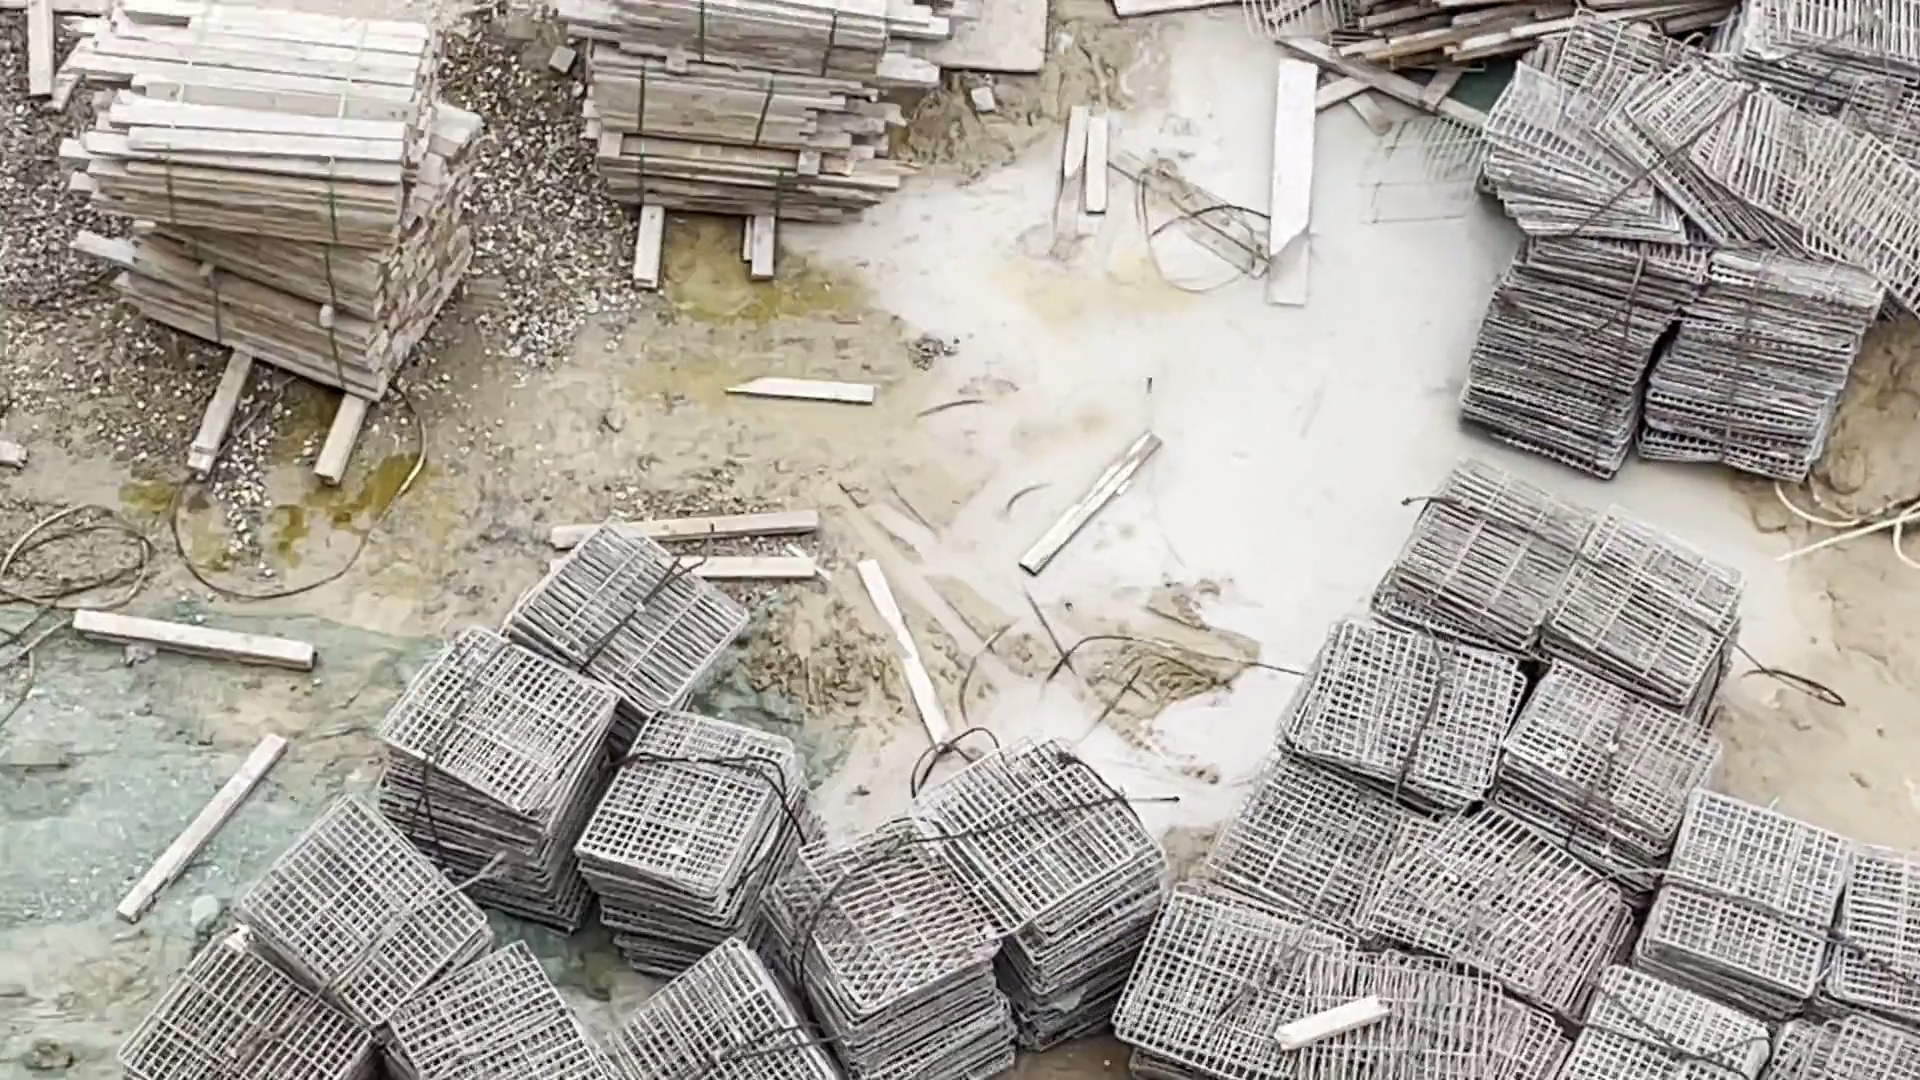wood: (53, 1, 512, 487), (574, 1, 944, 291)
